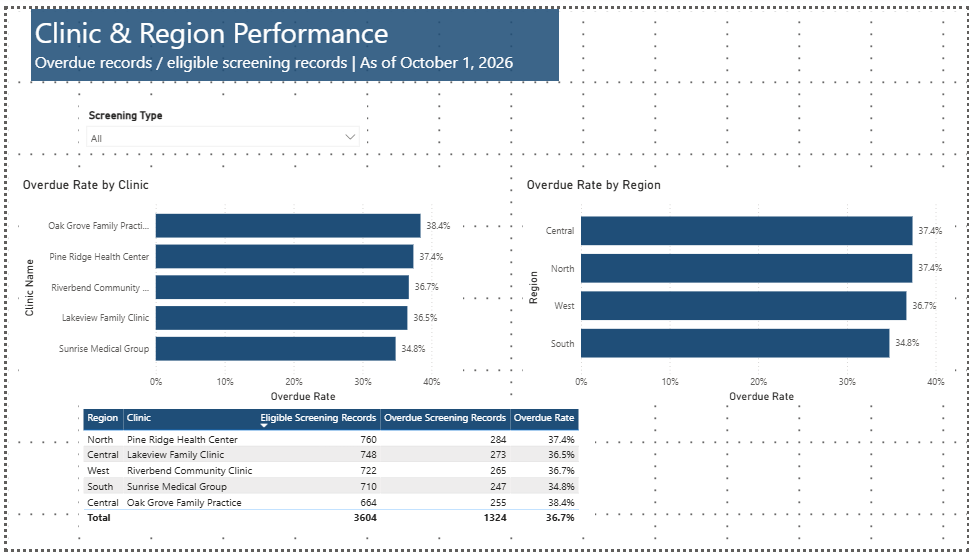

This screenshot's page, from the dashboard's own definition file:
{"tool":"powerbi","page":{"name":"Clinic & Region Performance","canvas":[1280,720],"ordinal":2},"visuals":[{"type":"clusteredBarChart","title":"Overdue Rate by Clinic","fields":{"Category":["CLINIC_GAP_SUMMARY.CLINIC_NAME"],"Y":["CLINIC_GAP_SUMMARY.Overdue Rate"]},"box":[16,224,592,304],"z":0},{"type":"clusteredBarChart","title":"Overdue Rate by Region","fields":{"Y":["CLINIC_GAP_SUMMARY.Overdue Rate"],"Category":["CLINIC_GAP_SUMMARY.REGION"]},"box":[688,224,576,304],"z":1000},{"type":"tableEx","fields":{"Values":["CLINIC_GAP_SUMMARY.REGION","Clinic_Lookup.CLINIC_NAME","Sum(CLINIC_GAP_SUMMARY.ELIGIBLE_RECORDS)","Sum(CLINIC_GAP_SUMMARY.OVERDUE_COUNT)","CLINIC_GAP_SUMMARY.Overdue Rate"]},"box":[96,528,688,176],"z":2000},{"type":"textbox","box":[32,0,704,96],"z":3000},{"type":"slicer","fields":{"Values":["CLINIC_GAP_SUMMARY.SCREENING_TYPE"]},"box":[96,128,384,64],"z":3001}]}

Visuals, with their boxes in screenshot pixels (x1, y1, x2, y2), scaled from the page's 1280x720 canvas onto the 969x553 screenshot:
"Overdue Rate by Clinic" clusteredBarChart: (left=12, top=172, right=460, bottom=406)
"Overdue Rate by Region" clusteredBarChart: (left=521, top=172, right=957, bottom=406)
tableEx - CLINIC_GAP_SUMMARY.REGION x Clinic_Lookup.CLINIC_NAME: (left=73, top=406, right=594, bottom=541)
textbox: (left=24, top=0, right=557, bottom=74)
slicer - CLINIC_GAP_SUMMARY.SCREENING_TYPE: (left=73, top=98, right=363, bottom=147)
